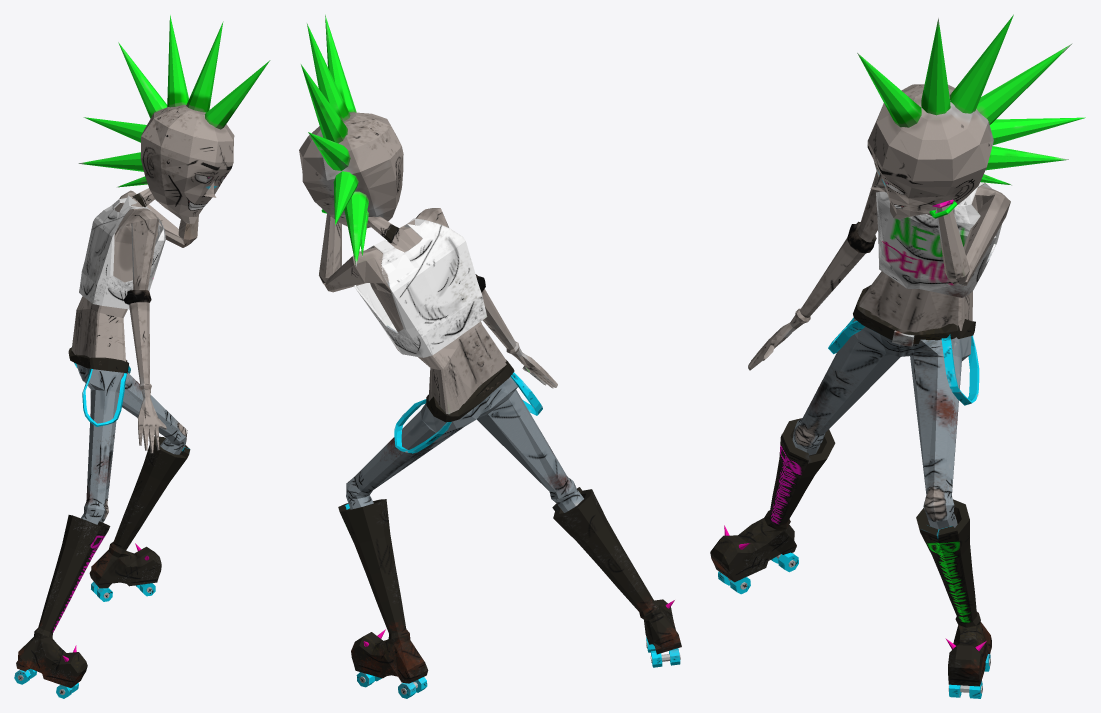
The model's file is punkAnimation_000028.obj.
3 views of the same model, side by side, from view 1: azimuth 30°, elevation 25°; view 2: azimuth 150°, elevation 25°; view 3: azimuth 270°, elevation 25° (orthographic). The views are drawn at different scales.
Parts seen in each view (by area): view 1: Cube.004_Cube.003; view 2: Cube.004_Cube.003; view 3: Cube.004_Cube.003.
Part boxes in pixels (x1,y1,x2,y2): Cube.004_Cube.003: [14, 15, 270, 698]; Cube.004_Cube.003: [299, 14, 681, 698]; Cube.004_Cube.003: [710, 14, 1085, 698].
Size of the model in its own units: 3.57 by 6.71 by 3.17.
